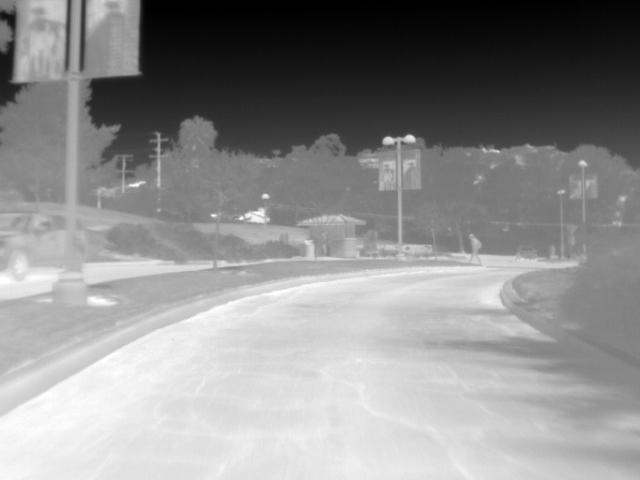car: (0, 211, 68, 277), (515, 243, 538, 262)
person: (465, 232, 481, 266)
